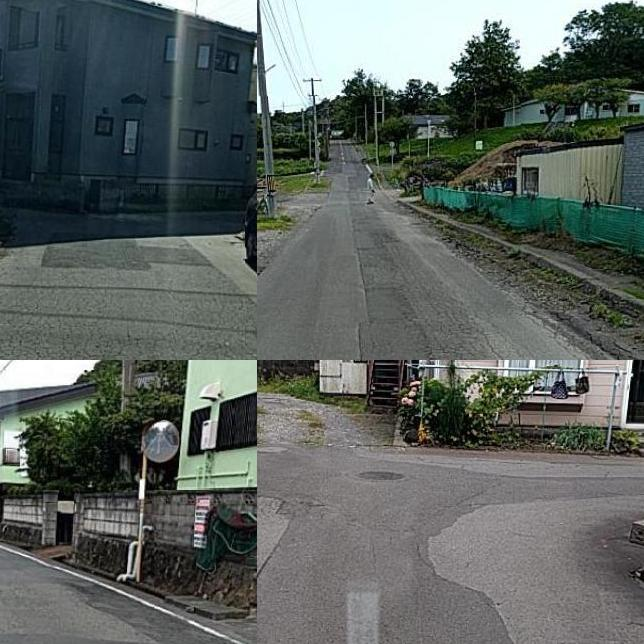Sambungan: (426, 492, 644, 644), (43, 242, 209, 272)
